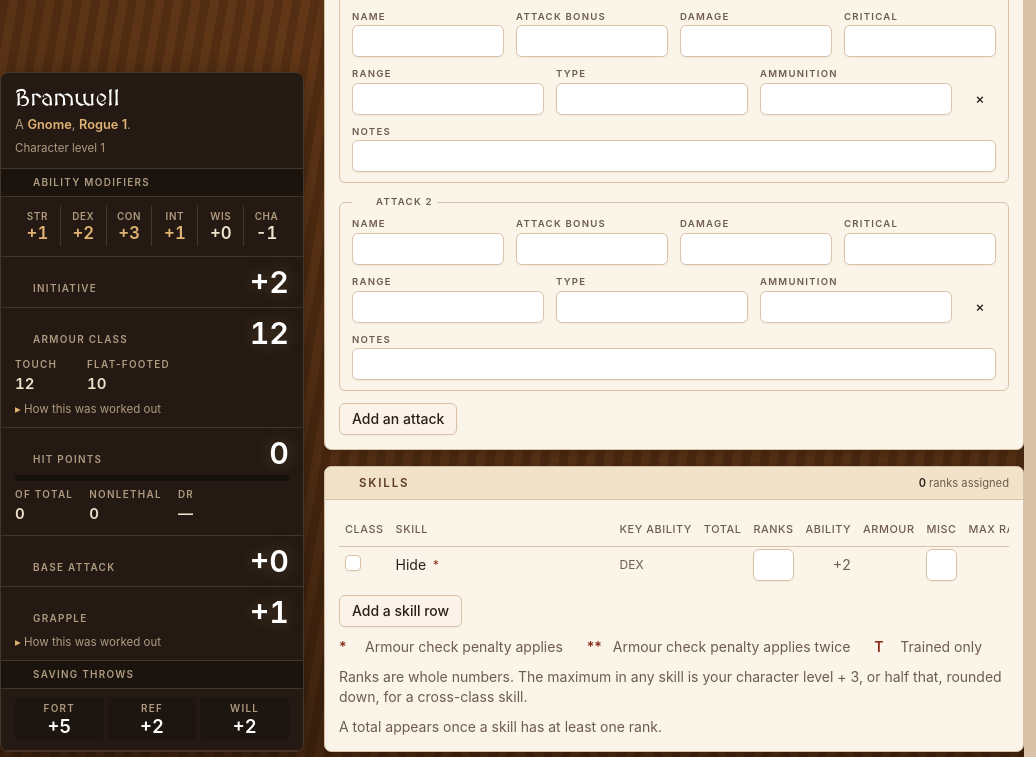
Test: the attack blocks › shows the blocks the character has, and adds one on request
The image size is (1036, 757).
(page scrolled)
Expected: the element "Attack 2" is shown, [339,195,1009,391]
Expected: the element "Attack 3" is not shown
Click the button "Add an attack" at (398, 419), box [339,403,457,435]
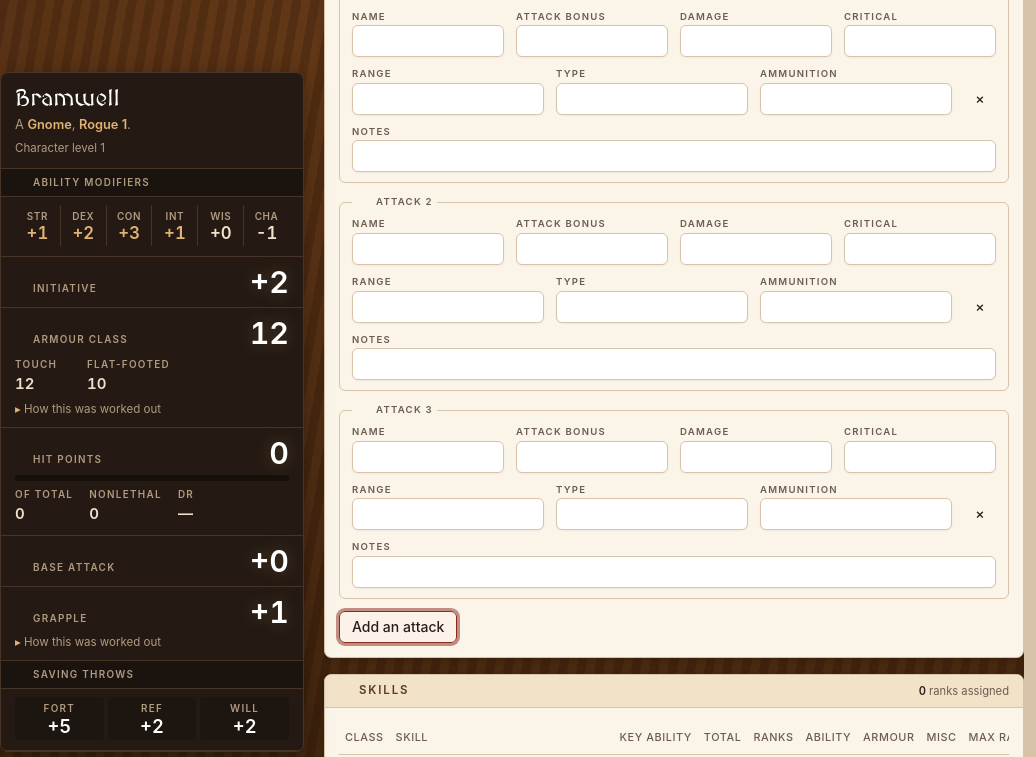
Expected: the element "Attack 3" is shown, [339,403,1009,599]
